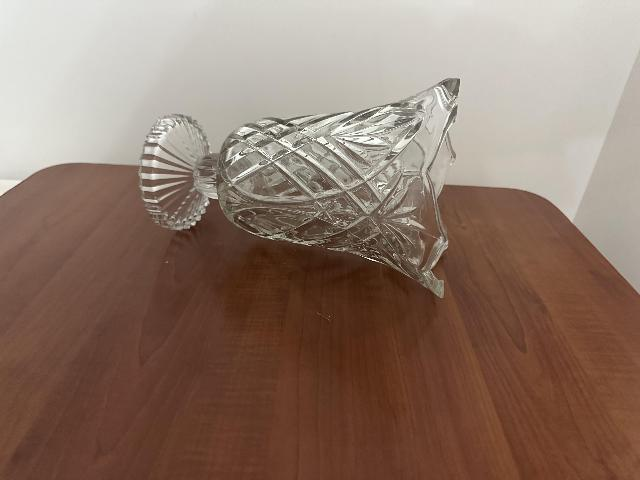Cam: (137, 78, 463, 289)
